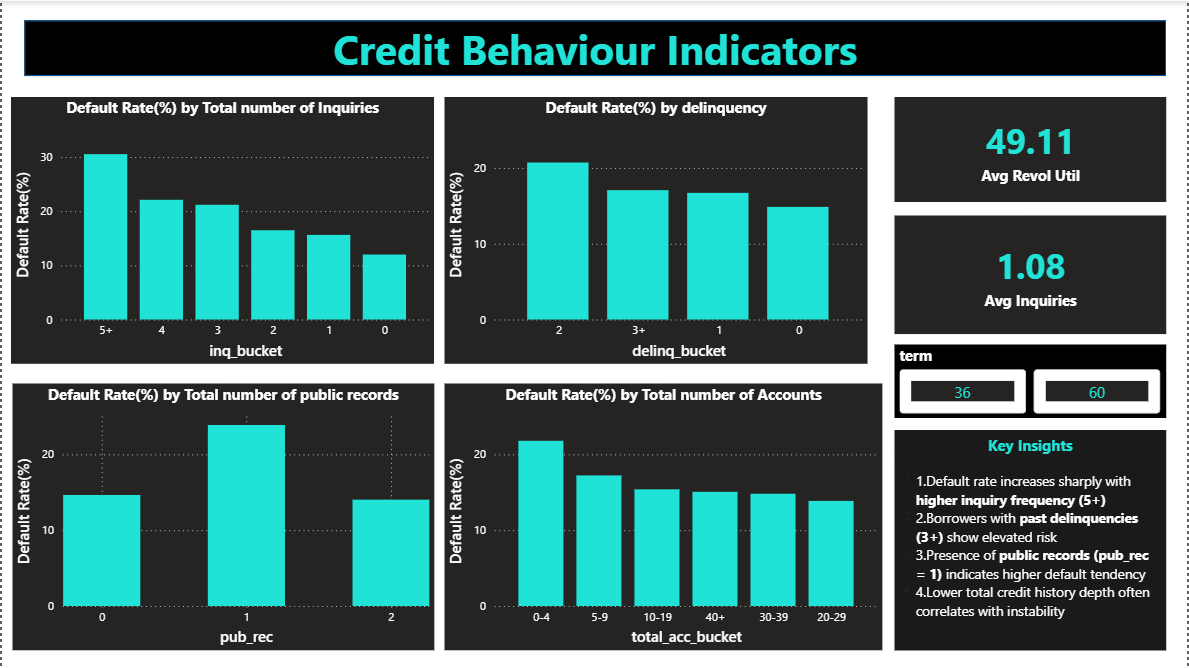

The page's visual inventory and layout, read from the dashboard file:
{"tool":"powerbi","page":{"name":"Credit Behaviour Indicators","canvas":[1280,720],"ordinal":2},"visuals":[{"type":"clusteredColumnChart","title":"Default Rate(%) by delinquency","fields":{"Y":["loan_default_cleaned.Default Rate(%)"],"Category":["loan_default_cleaned.delinq_bucket"]},"box":[477.7,103.6,456.6,288.2],"z":0},{"type":"card","fields":{"Values":["loan_default_cleaned.Avg Revol Util"]},"box":[963.4,103.6,293.1,113.3],"z":1000},{"type":"shape","box":[24.3,21,1232.2,59.9],"z":2000},{"type":"clusteredColumnChart","title":"Default Rate(%) by Total number of Accounts","fields":{"Y":["loan_default_cleaned.Default Rate(%)"],"Category":["loan_default_cleaned.total_acc_bucket"]},"box":[477.7,412.9,472.8,288.2],"z":3000},{"type":"clusteredColumnChart","title":"Default Rate(%) by Total number of public records","fields":{"Y":["loan_default_cleaned.Default Rate(%)"],"Category":["loan_default_cleaned.pub_rec"]},"box":[11.3,412.9,455,288.2],"z":4000},{"type":"clusteredColumnChart","title":"Default Rate(%) by Total number of Inquiries","fields":{"Y":["loan_default_cleaned.Default Rate(%)"],"Category":["loan_default_cleaned.inq_bucket"]},"box":[9.7,103.6,456.6,288.2],"z":5000},{"type":"card","fields":{"Values":["loan_default_cleaned.Avg Inquiries"]},"box":[963.4,231.5,293.1,127.9],"z":6000},{"type":"textbox","box":[963.4,463.1,293.1,238],"z":7000},{"type":"advancedSlicerVisual","fields":{"Values":["loan_default_cleaned.term"]},"box":[963.4,370.8,293.1,79.3],"z":8000}]}

Visuals, with their boxes in screenshot pixels (x1, y1, x2, y2), scaled from the page's 1280x720 canvas onto the 1189x668 screenshot:
"Default Rate(%) by delinquency" clusteredColumnChart: <bbox>444, 96, 868, 364</bbox>
card - loan_default_cleaned.Avg Revol Util: <bbox>895, 96, 1167, 201</bbox>
shape: <bbox>23, 19, 1167, 75</bbox>
"Default Rate(%) by Total number of Accounts" clusteredColumnChart: <bbox>444, 383, 883, 650</bbox>
"Default Rate(%) by Total number of public records" clusteredColumnChart: <bbox>10, 383, 433, 650</bbox>
"Default Rate(%) by Total number of Inquiries" clusteredColumnChart: <bbox>9, 96, 433, 364</bbox>
card - loan_default_cleaned.Avg Inquiries: <bbox>895, 215, 1167, 333</bbox>
textbox: <bbox>895, 430, 1167, 650</bbox>
advancedSlicerVisual - loan_default_cleaned.term: <bbox>895, 344, 1167, 418</bbox>
